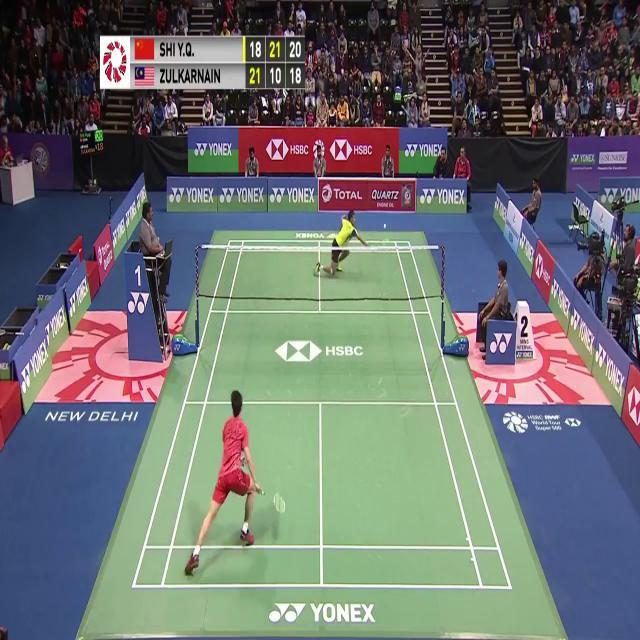Shuttlecock: (382, 220, 389, 232)
